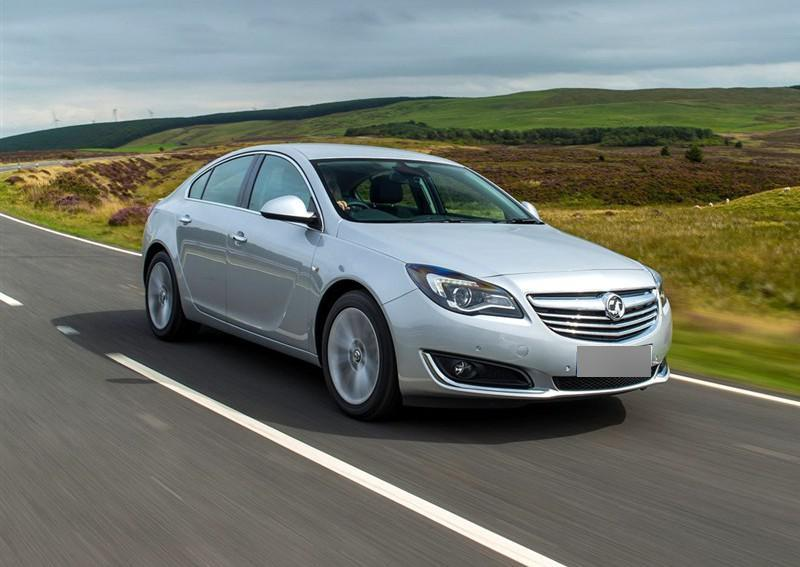Wagon: (140, 142, 675, 423)
